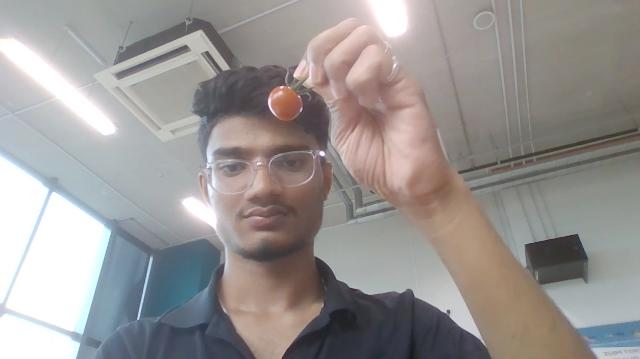Fully Grown: (267, 84, 303, 122)
